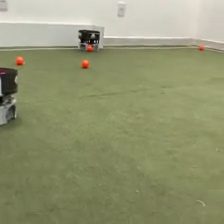ball: (14, 54, 24, 65), (80, 58, 89, 68), (86, 44, 93, 52), (198, 43, 204, 51)
goal: (1, 21, 106, 48)
robot: (1, 66, 20, 128), (77, 28, 101, 53)
